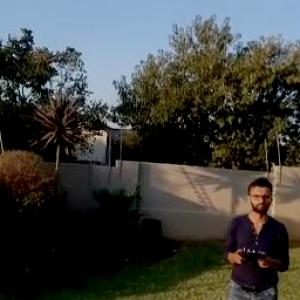follow: (218, 172, 294, 299)
